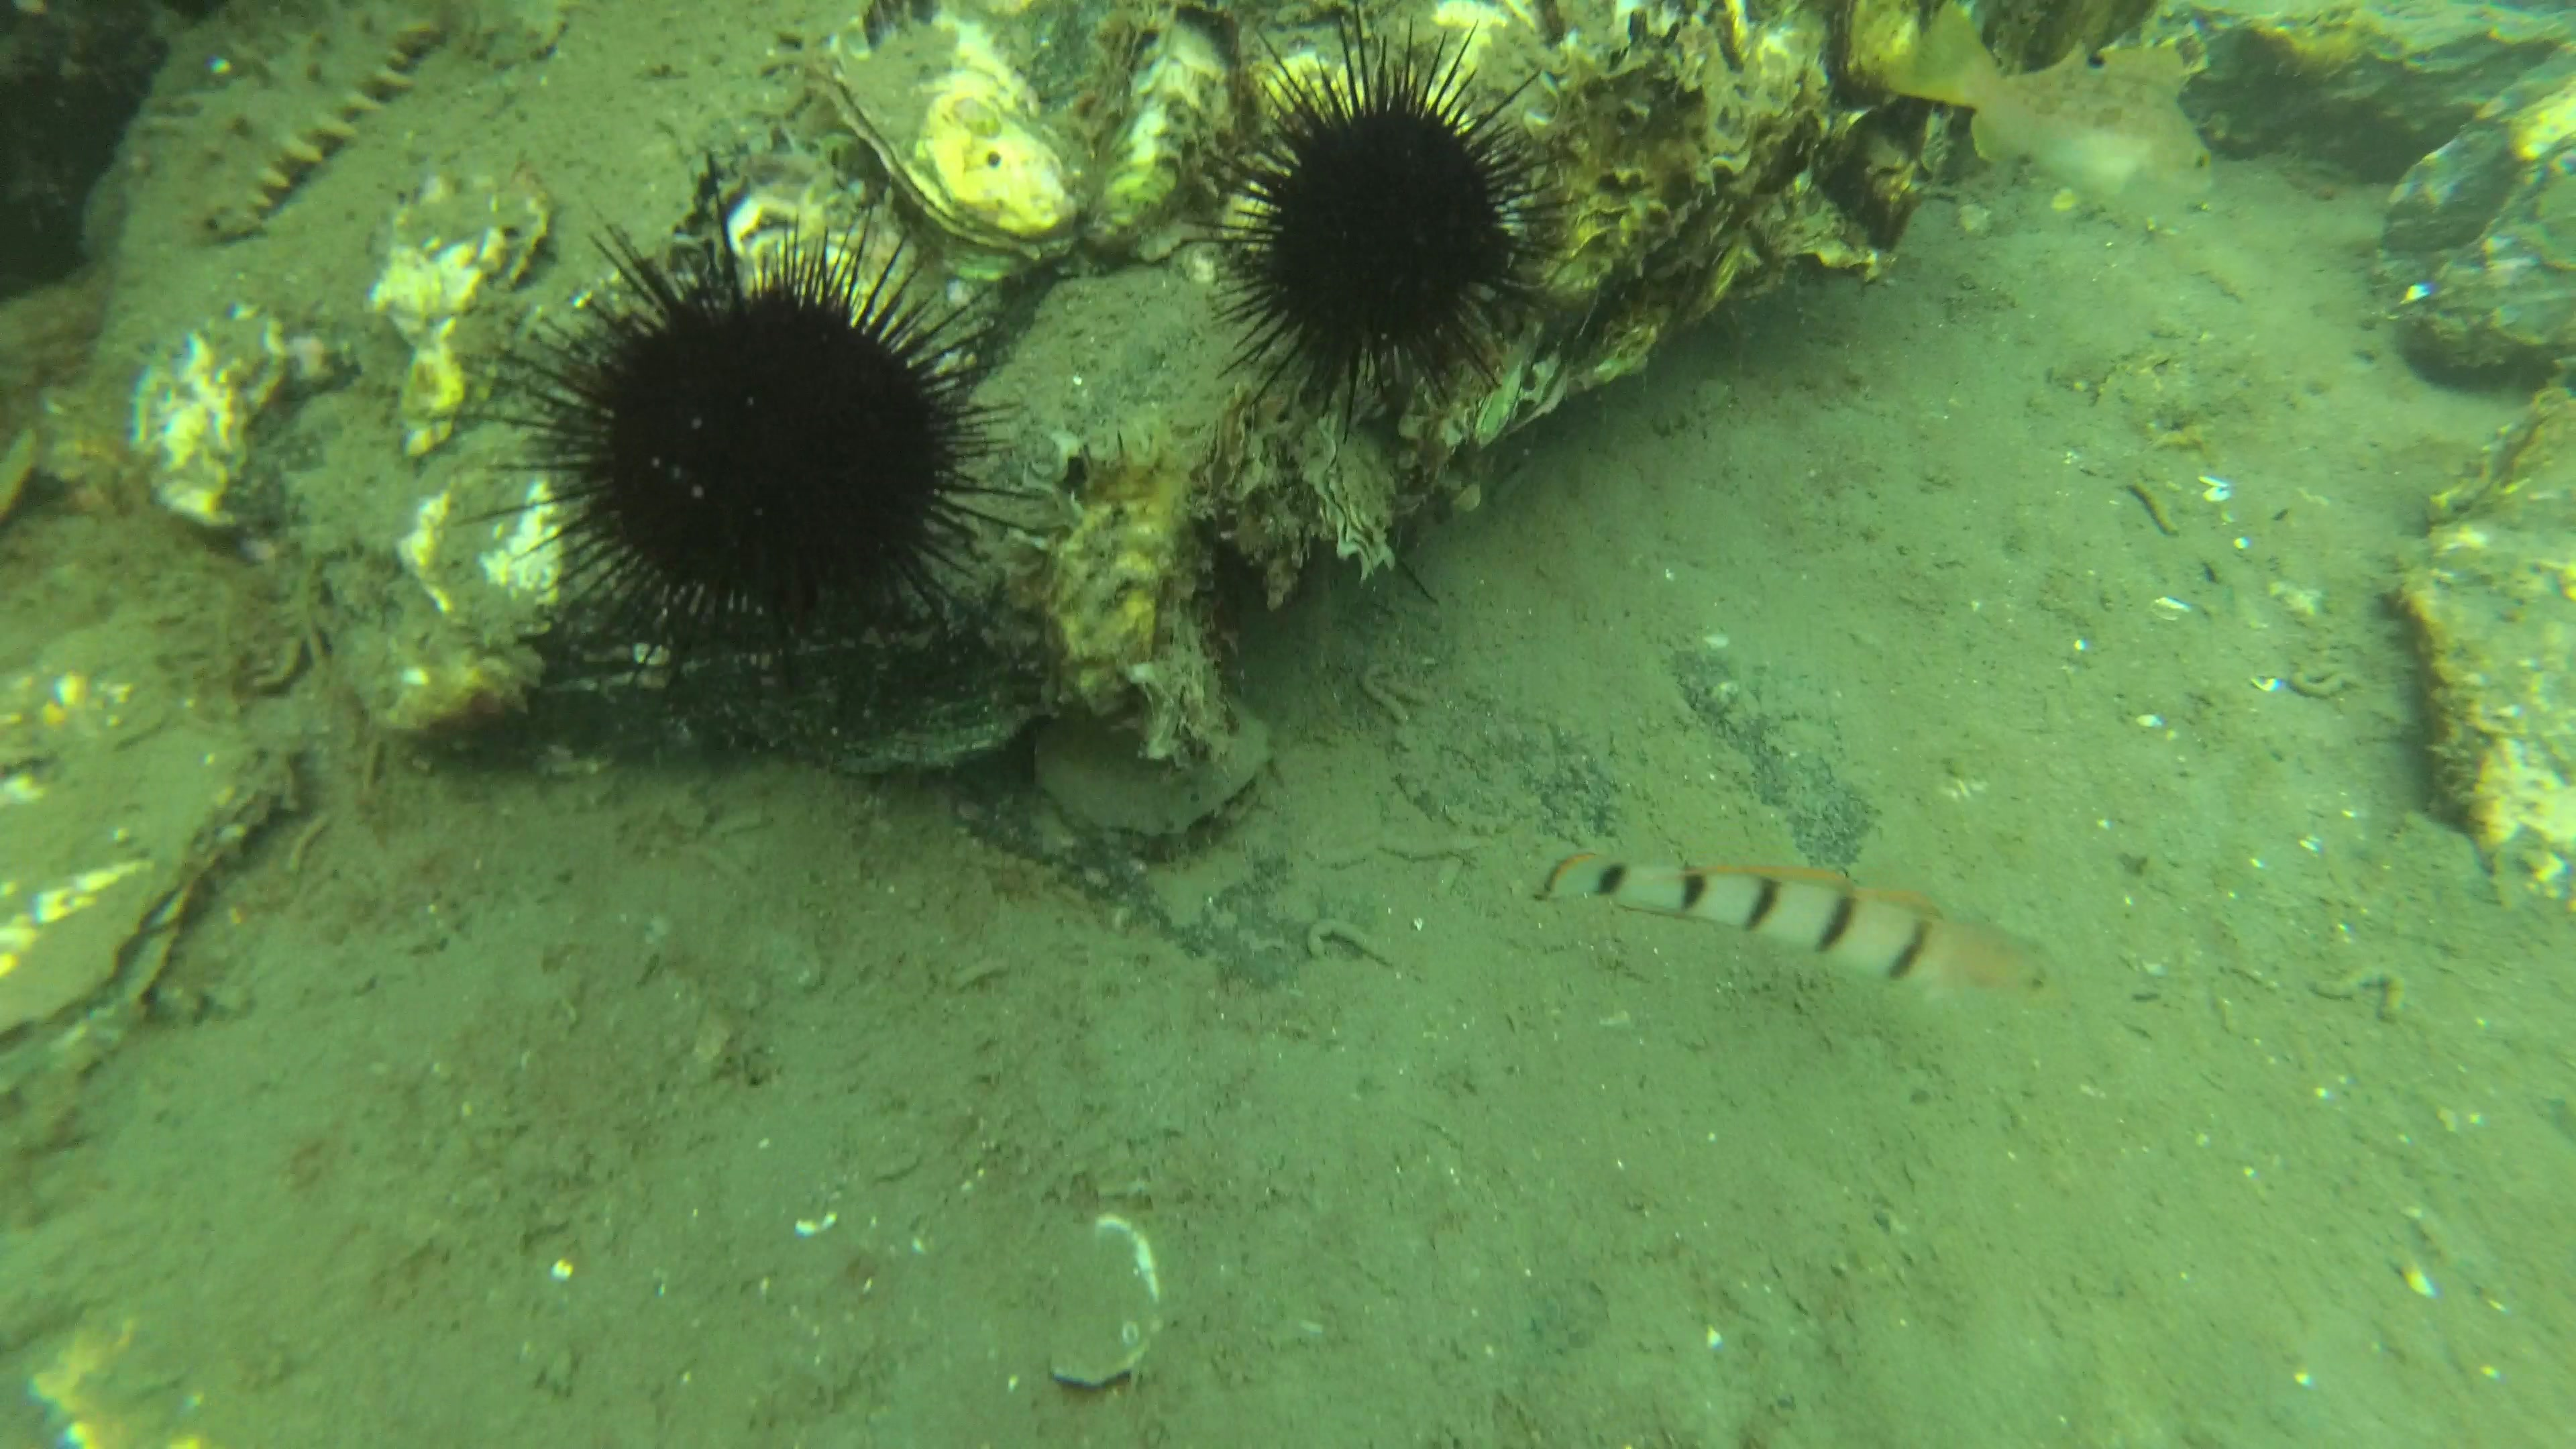echinus: (469, 191, 1040, 683), (1185, 21, 1578, 432)
holothurian: (173, 11, 444, 237)
